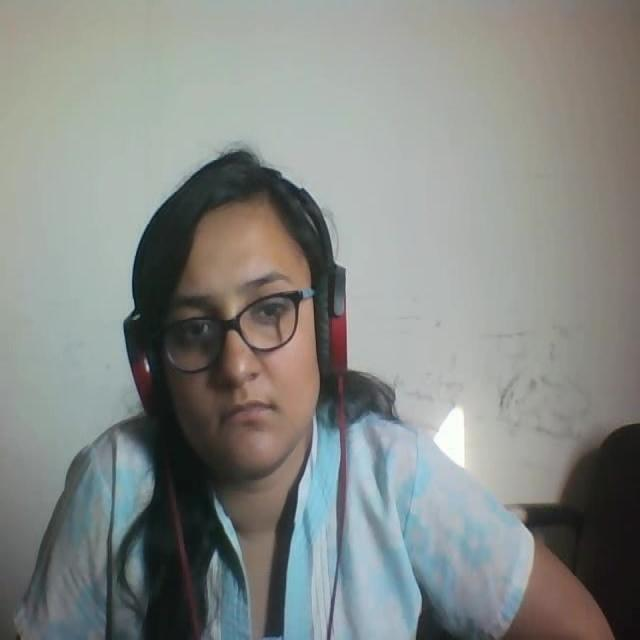Engaged: (111, 134, 379, 506)
